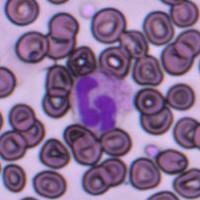N: (69, 71, 132, 134)
